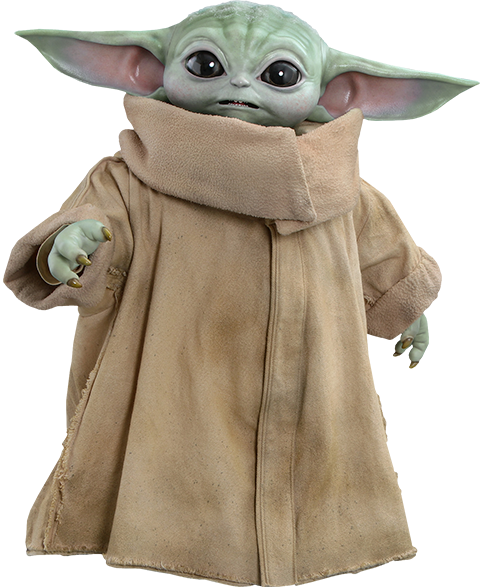toy: (1, 14, 470, 579)
